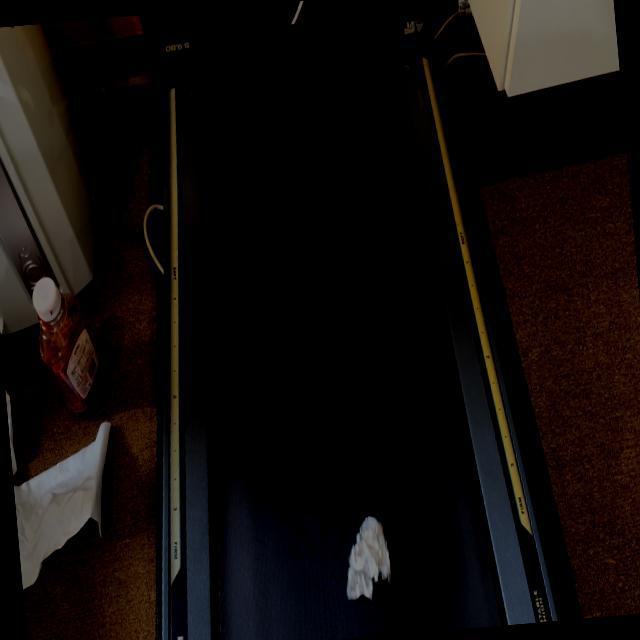Recycle: (340, 514, 394, 604)
